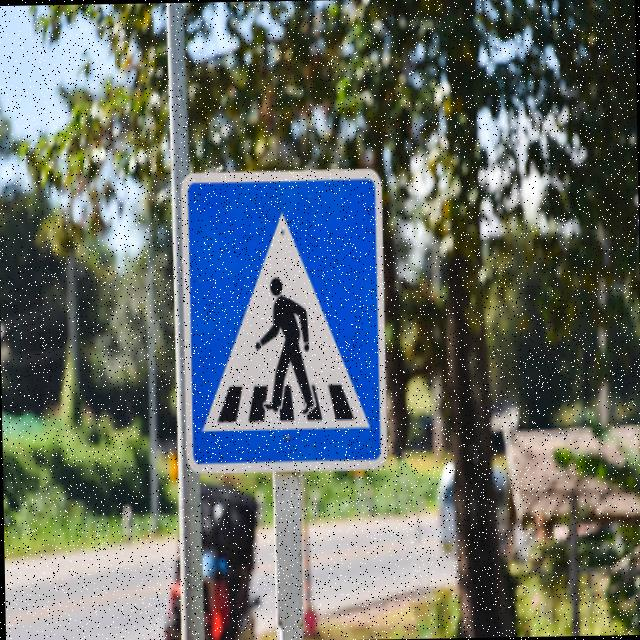crosswalk: (177, 158, 396, 479)
